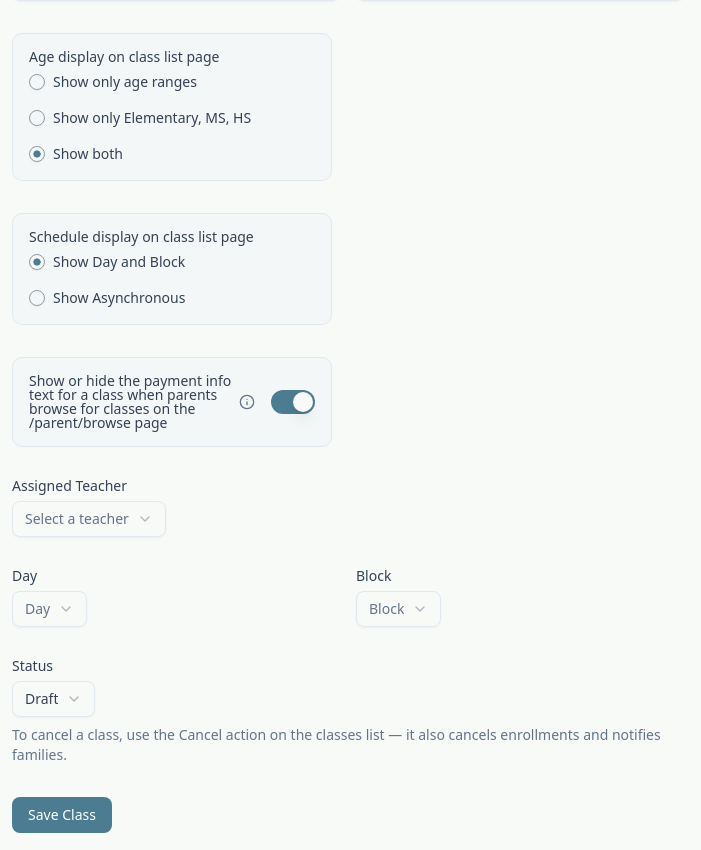
Test: AdminClassForm › renders the correct day options
(page scrolled)
Open the Day Select
Click the dropdown labelled "Day".
click(50, 609)  # box [12,591,87,627]
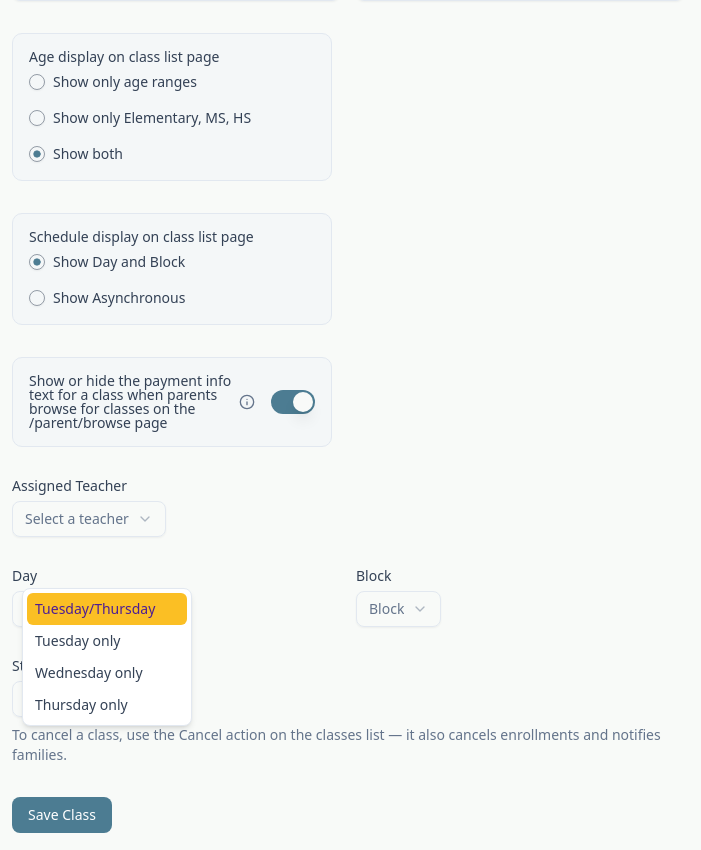
expect the text "Tuesday/Thursday" is shown: met, box [35,599,155,619]
expect the text "Tuesday only" is shown: met, box [35,631,120,651]
expect the text "Wednesday only" is shown: met, box [35,663,143,683]
